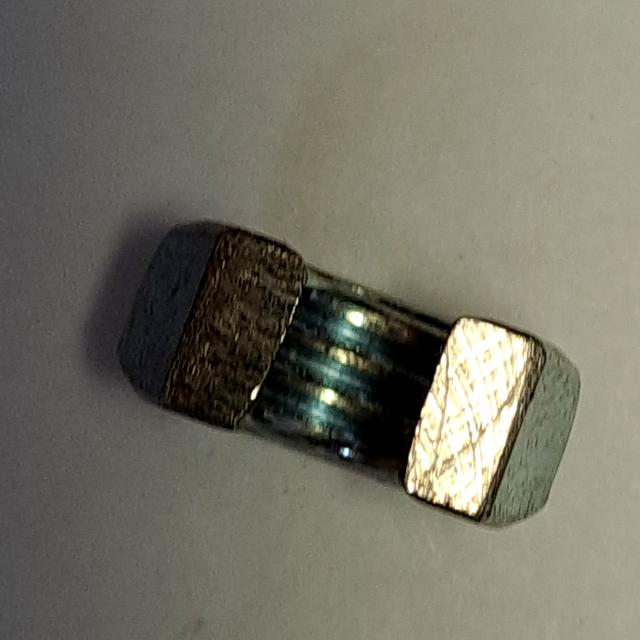Side-Fracture: (107, 209, 591, 544)
